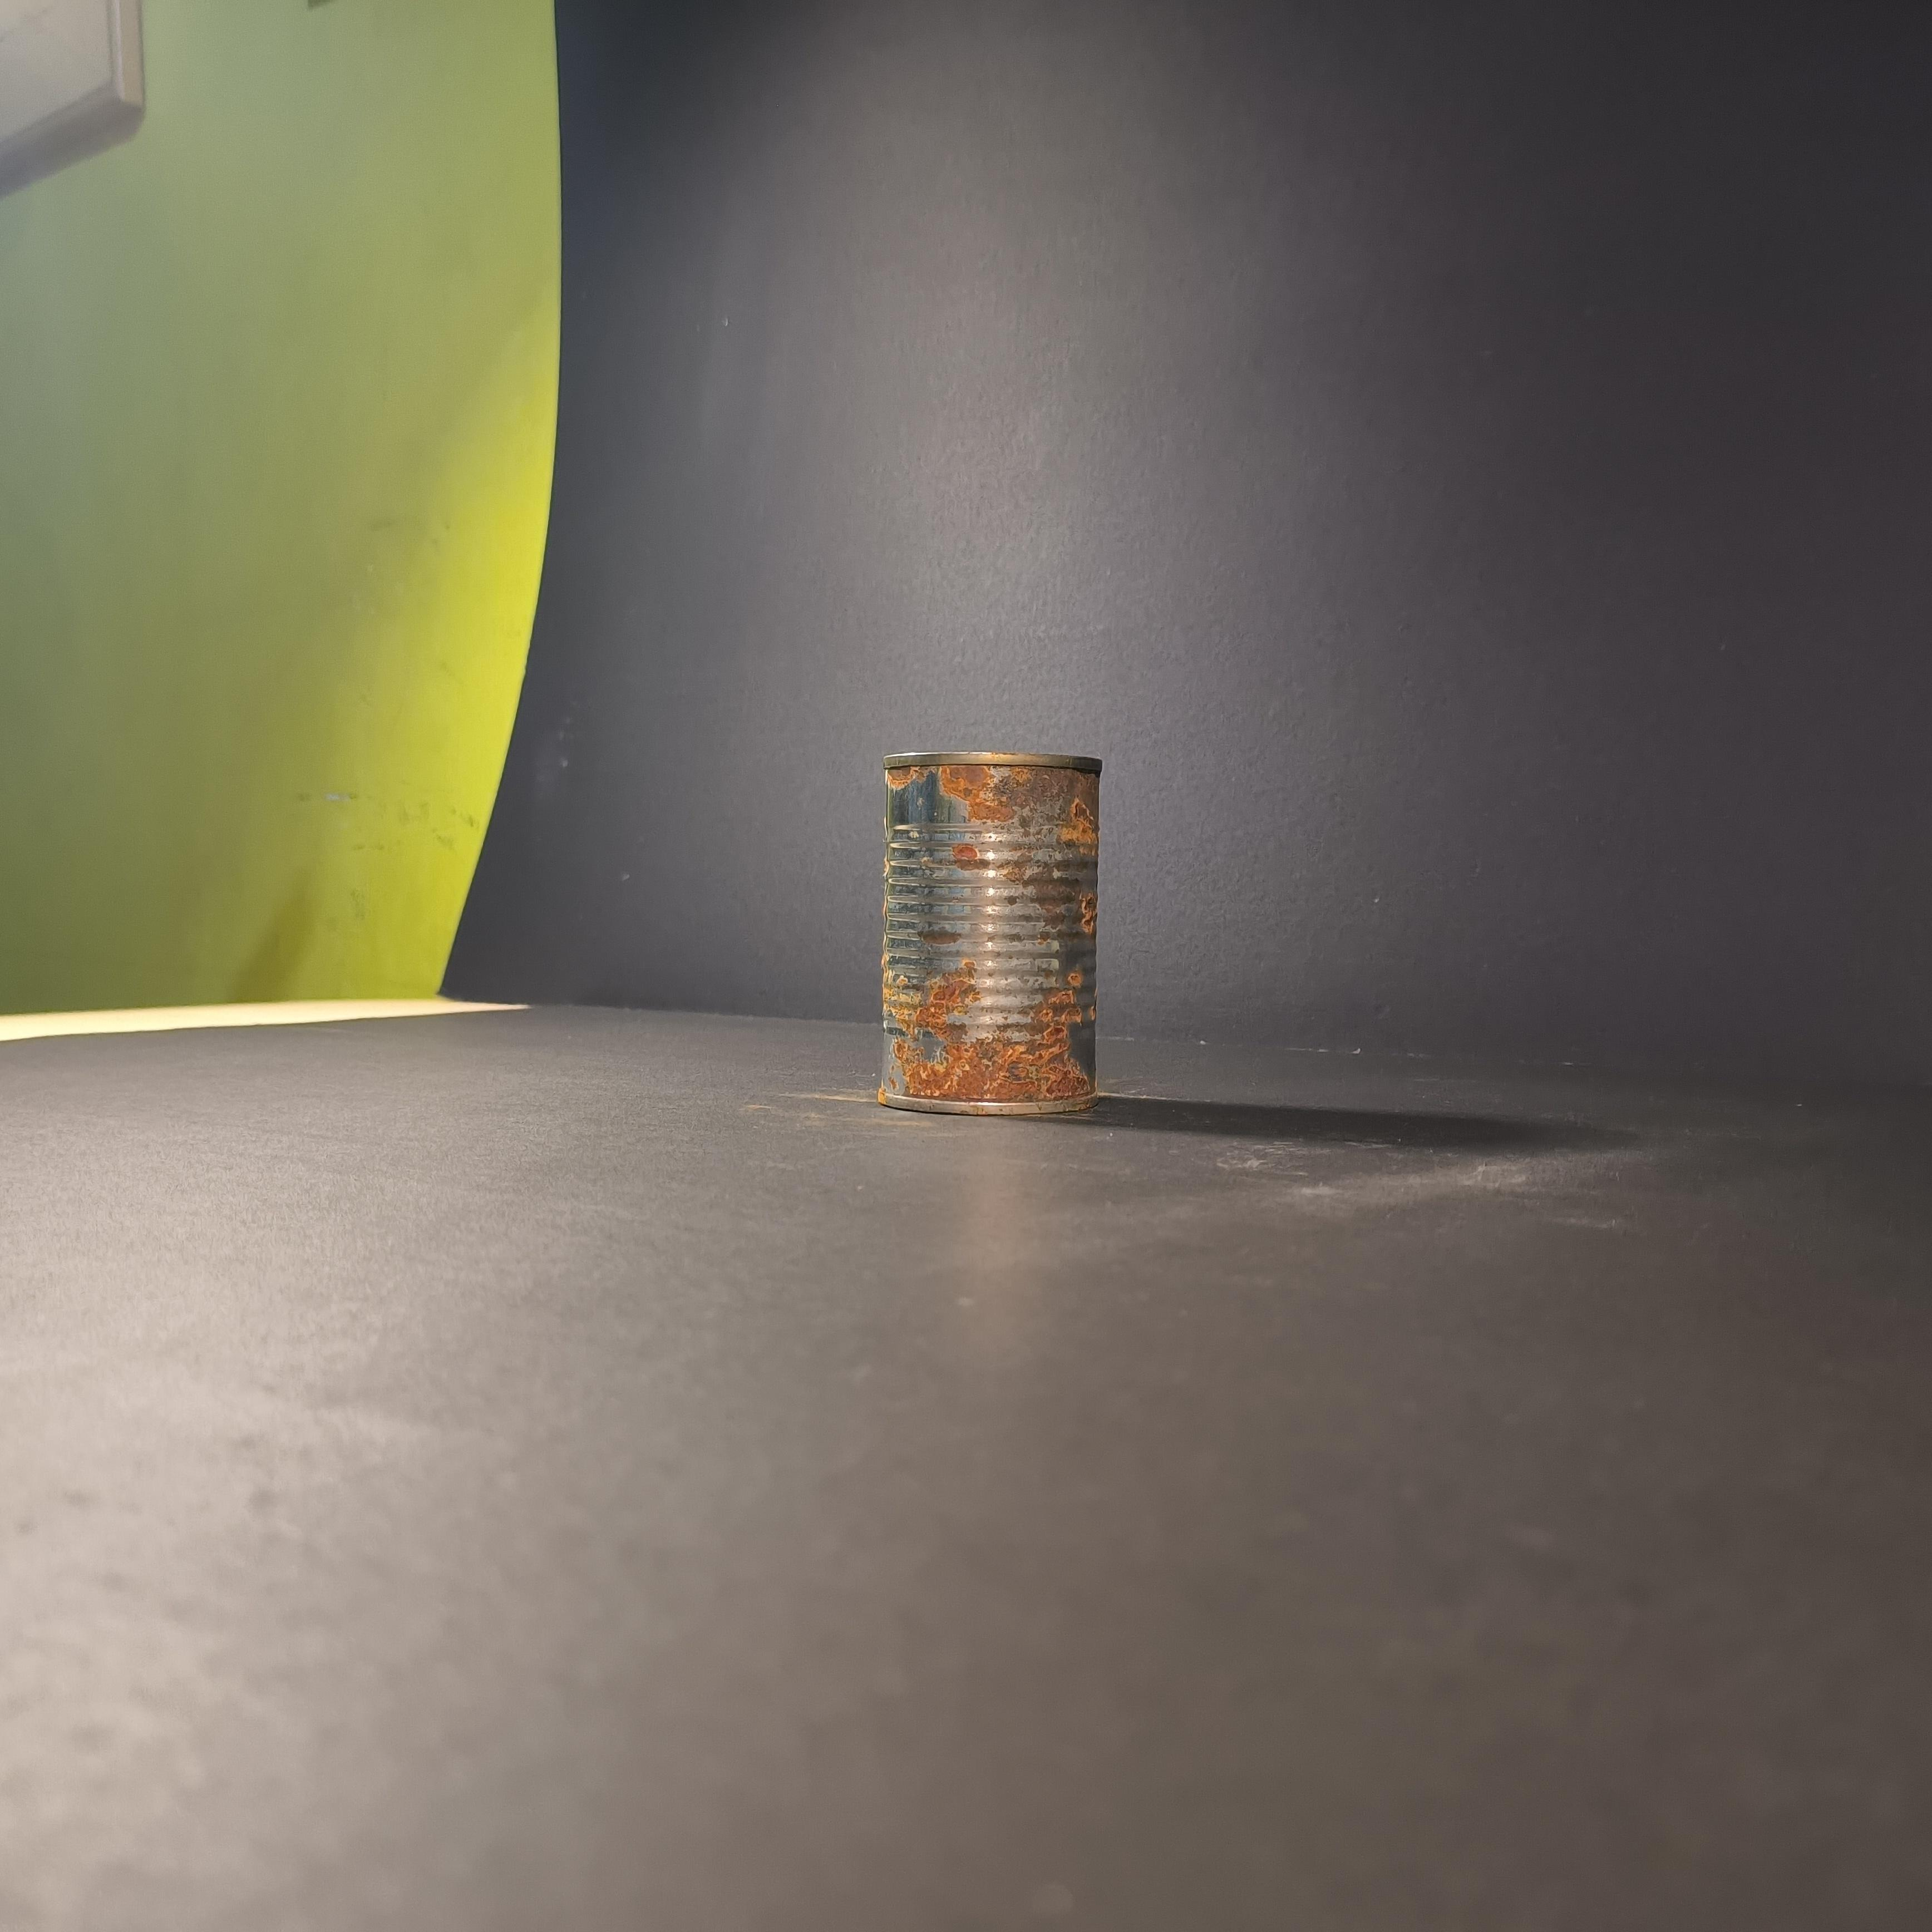Rusted: (851, 718, 1132, 1168)
